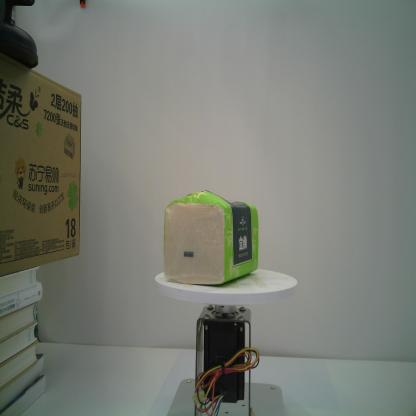Tissue: (162, 188, 260, 288)
